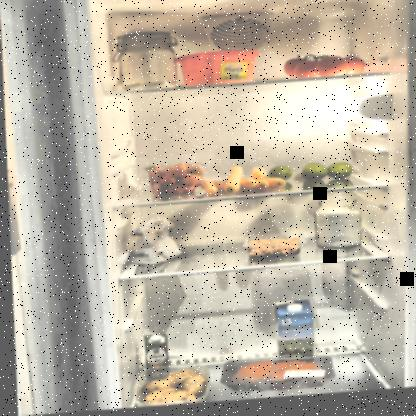beef: (215, 357, 332, 399)
butter: (174, 51, 261, 92)
carrot: (197, 166, 286, 199)
heavy_cream: (141, 336, 166, 381)
lime: (266, 165, 353, 188)
milk: (271, 302, 315, 370)
potato: (134, 365, 210, 408)
shrimp: (244, 238, 301, 263)
strawberries: (139, 163, 204, 199)
tomato: (279, 51, 368, 87)
